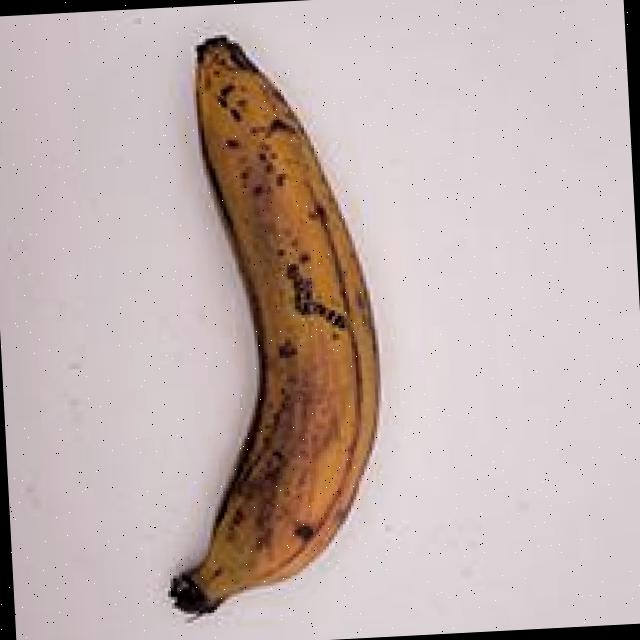Overripe: (95, 9, 412, 636)
